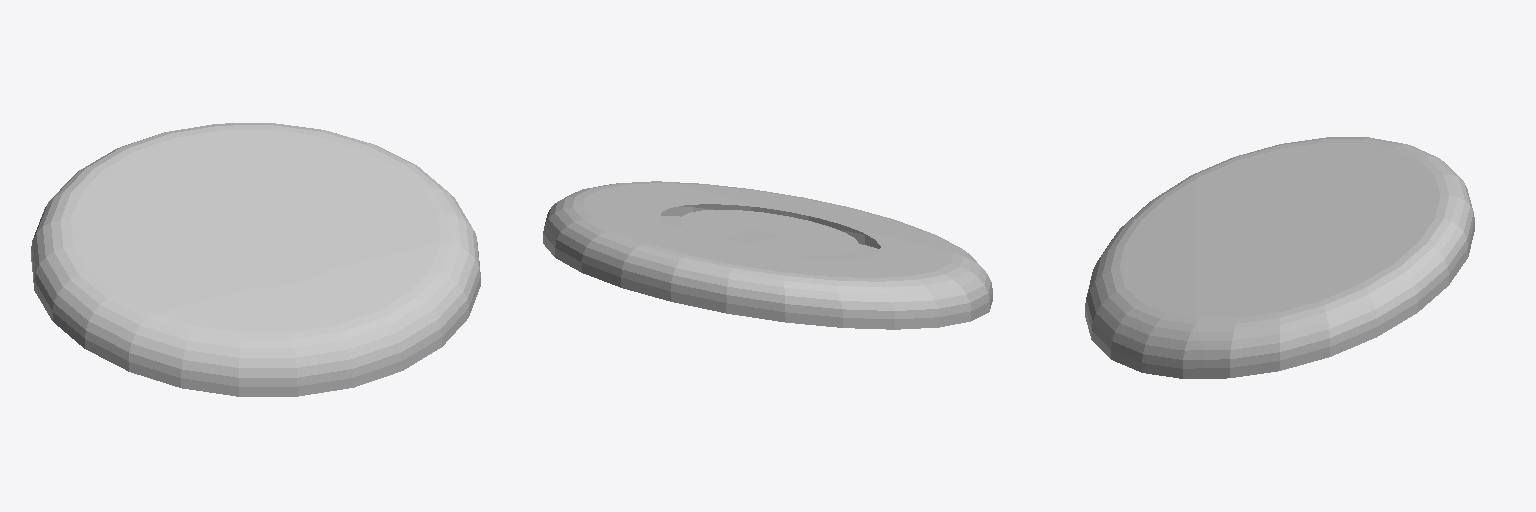
Rendered from original-22.obj.
3 views of the same model, side by side, from view 1: azimuth 30°, elevation 25°; view 2: azimuth 150°, elevation 25°; view 3: azimuth 270°, elevation 25° (orthographic).
Visible parts, largest first — view 1: #ID164; view 2: #ID164; view 3: #ID164.
Part boxes in pixels (x1,y1,x2,y2): #ID164: (31, 123, 480, 396); #ID164: (543, 181, 992, 329); #ID164: (1085, 137, 1474, 378).
Size of the model in its own units: 0.0607 by 0.0173 by 0.0504.